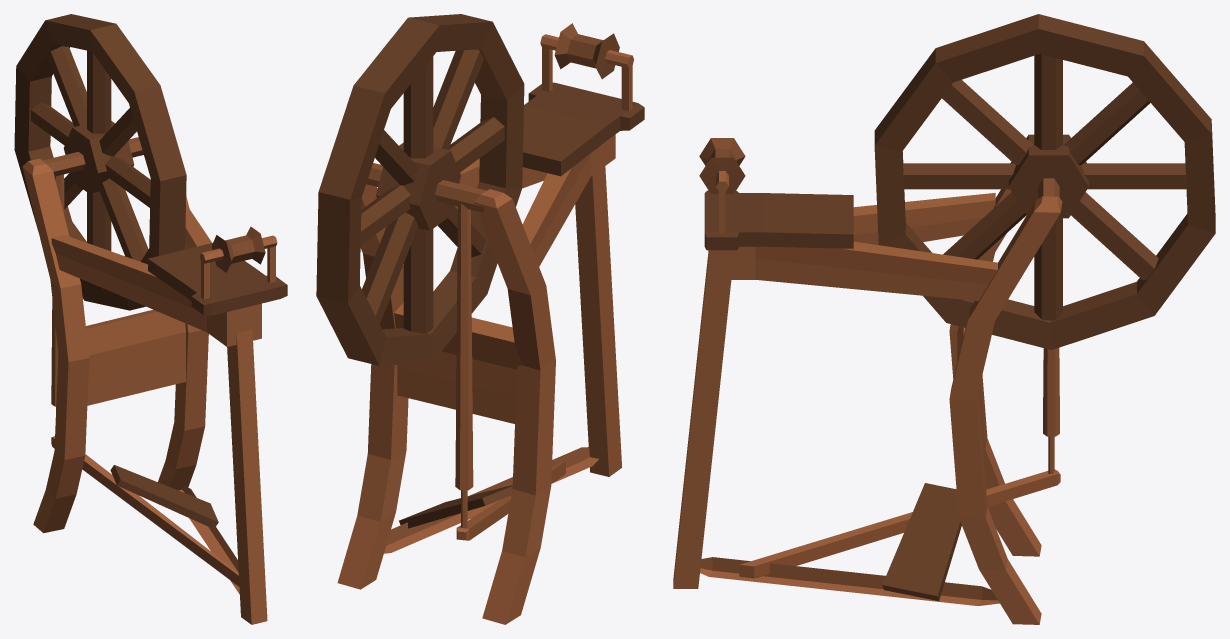
Rendered from spinningwheel01.gltf.
3 views of the same model, side by side, from view 1: azimuth 30°, elevation 25°; view 2: azimuth 150°, elevation 25°; view 3: azimuth 270°, elevation 25° (orthographic). The views are drawn at different scales.
Parts seen in each view (by area): view 1: Cube; view 2: Cube; view 3: Cube.
Part boxes in pixels (x1,y1,x2,y2): Cube: (14, 14, 287, 624); Cube: (316, 14, 644, 624); Cube: (673, 14, 1215, 624).
Size of the model in its own units: 0.3791 by 1.22 by 1.06.
Materials: 1 (1 with a texture image).
